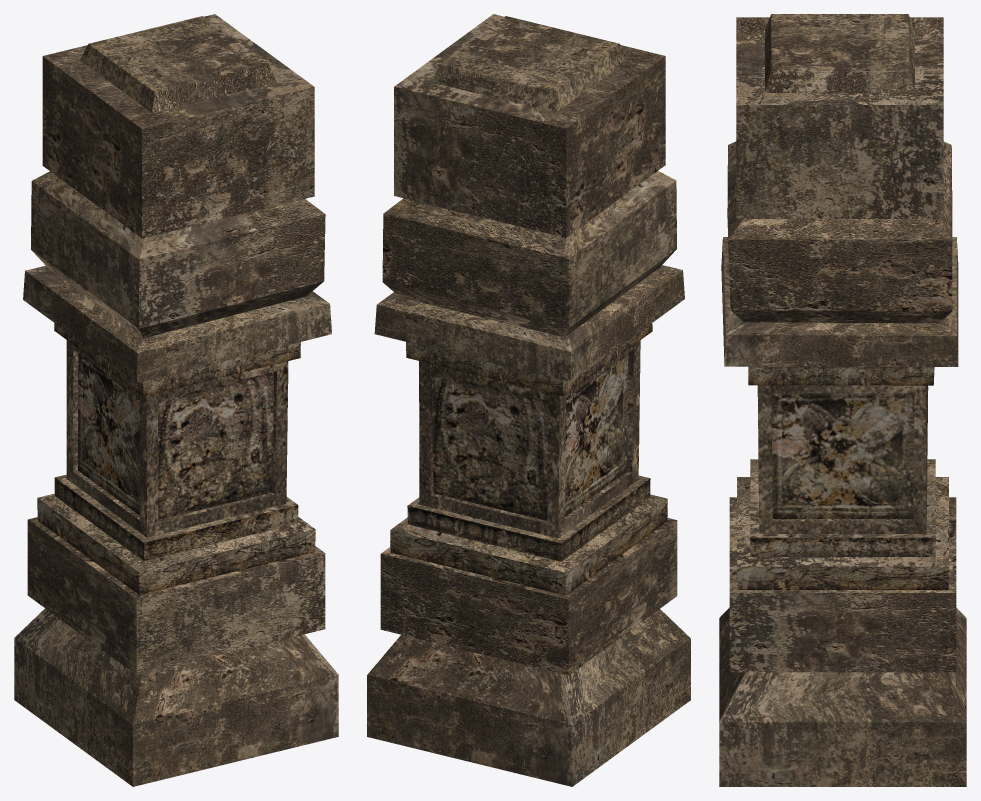
Rendered from materials_5_pillar_short_18.fbx.
3 renders of one model, left to right at view 1: azimuth 30°, elevation 25°; view 2: azimuth 150°, elevation 25°; view 3: azimuth 270°, elevation 25°, orthographic. The views are drawn at different scales.
Parts seen in each view (by area): view 1: materials_5_pillar_short_18; view 2: materials_5_pillar_short_18; view 3: materials_5_pillar_short_18.
Part boxes in pixels (x1,y1,x2,y2): materials_5_pillar_short_18: (14,14,338,786); materials_5_pillar_short_18: (367,14,690,786); materials_5_pillar_short_18: (719,14,966,786).
Bounding box in the file's own units: 32.68 × 101 × 32.68.
